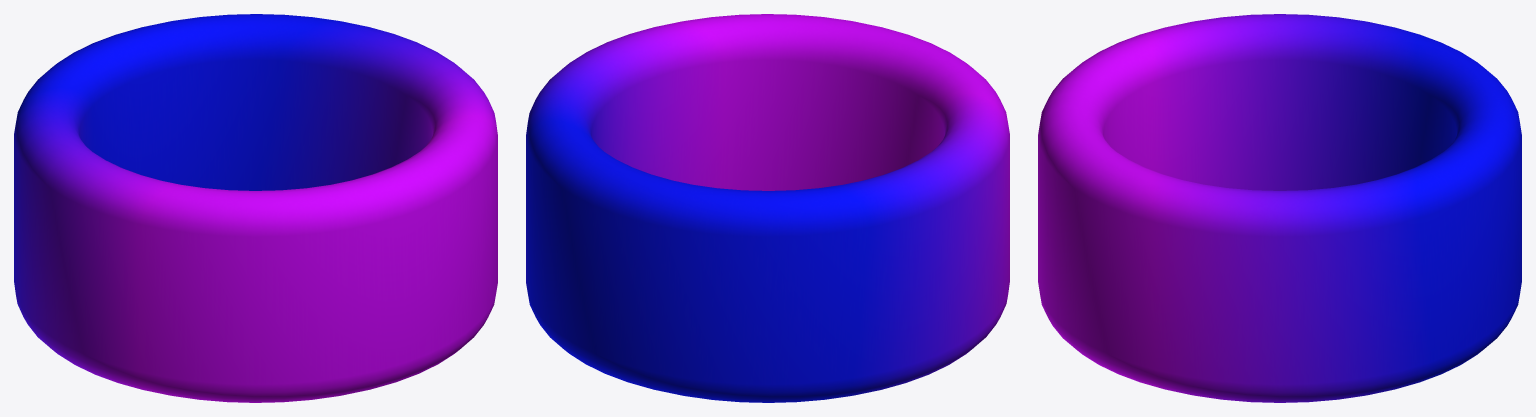
The model's file is Particle-13.dae.
3 renders of one model, left to right at view 1: azimuth 30°, elevation 25°; view 2: azimuth 150°, elevation 25°; view 3: azimuth 270°, elevation 25°, orthographic.
Parts seen in each view (by area): view 1: Particle; view 2: Particle; view 3: Particle.
Boxes of the visible parts, bbox=[...] form: Particle: bbox=[14, 14, 497, 402]; Particle: bbox=[526, 14, 1009, 402]; Particle: bbox=[1038, 14, 1521, 402].
Bounding box in the file's own units: 0.119 × 0.056 × 0.119.
1 material, 1 textured.
